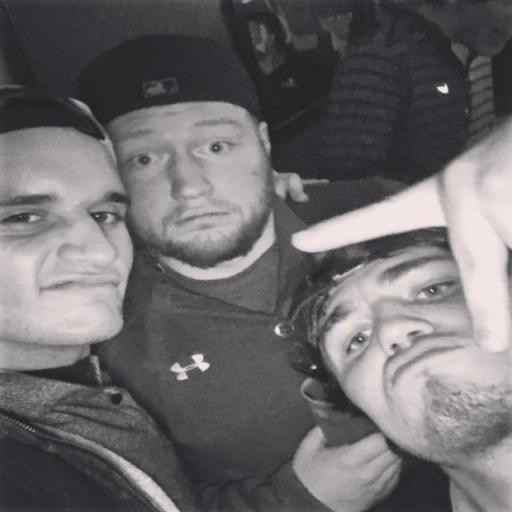Under Armour: (164, 348, 214, 384)
